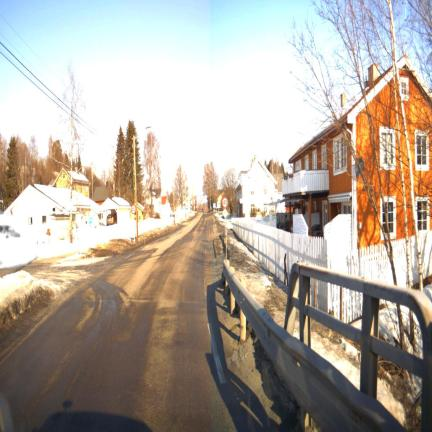Road: (0, 216, 250, 430)
